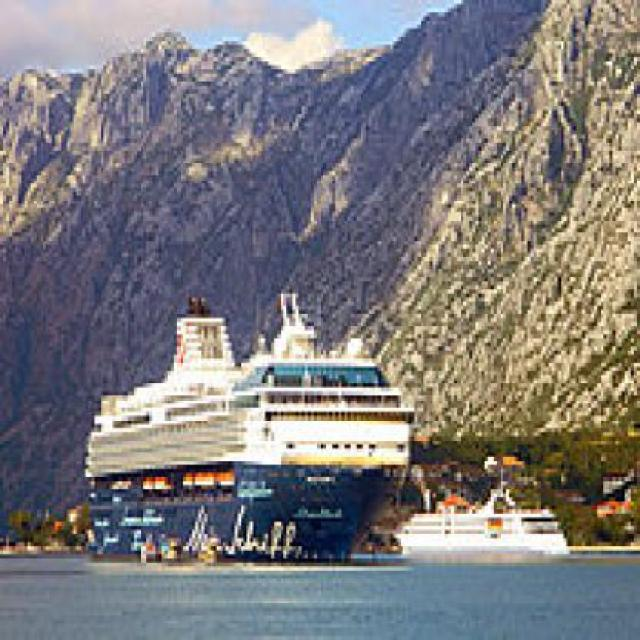cruise: (83, 270, 416, 576), (397, 470, 583, 584)
